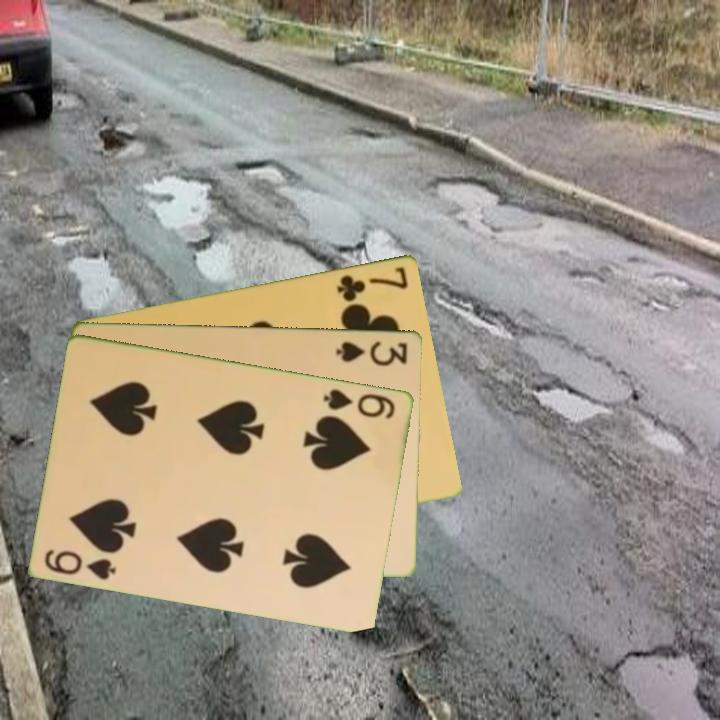3s: (333, 337, 411, 367)
6s: (41, 545, 120, 583), (320, 385, 399, 421)
7c: (334, 262, 411, 304)
